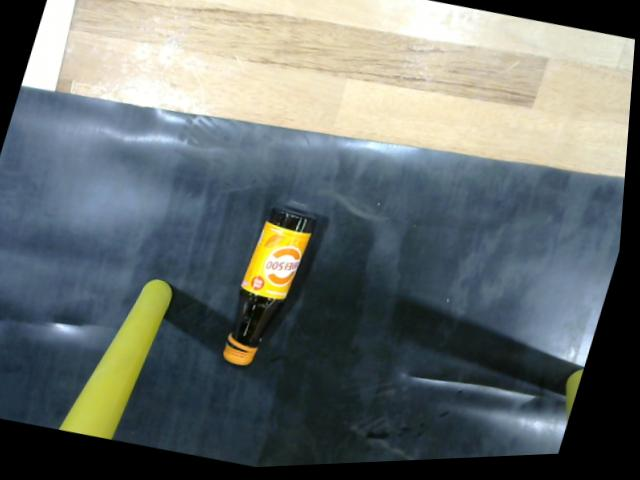glass: (218, 201, 331, 379)
